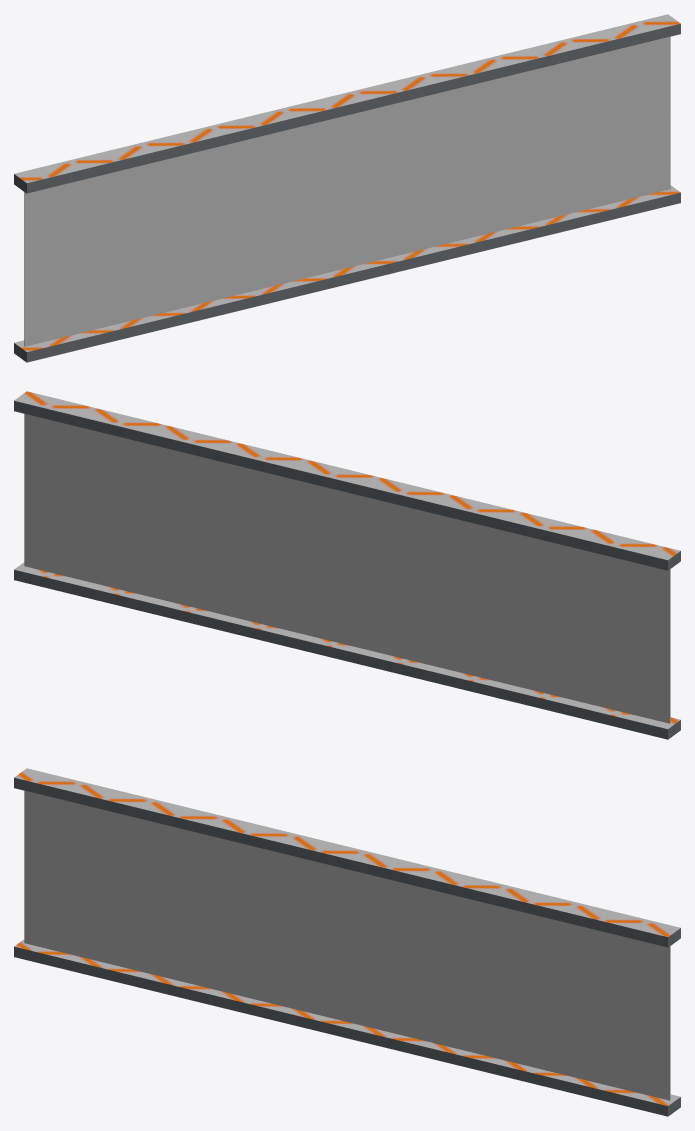
Rendered from Railing1.fbx.
3 renders of one model, top to bottom at view 1: azimuth 30°, elevation 25°; view 2: azimuth 150°, elevation 25°; view 3: azimuth 330°, elevation 25°, orthographic.
Visible parts, largest first — view 1: polySurface128, polySurface127, polySurface129; view 2: polySurface128, polySurface127, polySurface129; view 3: polySurface128, polySurface127, polySurface129.
Boxes of the visible parts, <box> form: polySurface128: <box>24,37,670,346</box>; polySurface127: <box>14,14,680,193</box>; polySurface129: <box>14,185,680,362</box>; polySurface128: <box>24,414,670,723</box>; polySurface127: <box>14,391,680,570</box>; polySurface129: <box>14,562,680,739</box>; polySurface128: <box>24,791,670,1100</box>; polySurface127: <box>14,768,680,947</box>; polySurface129: <box>14,939,680,1116</box>.
Size of the model in its own units: 4.05 by 1.06 by 0.1381.
